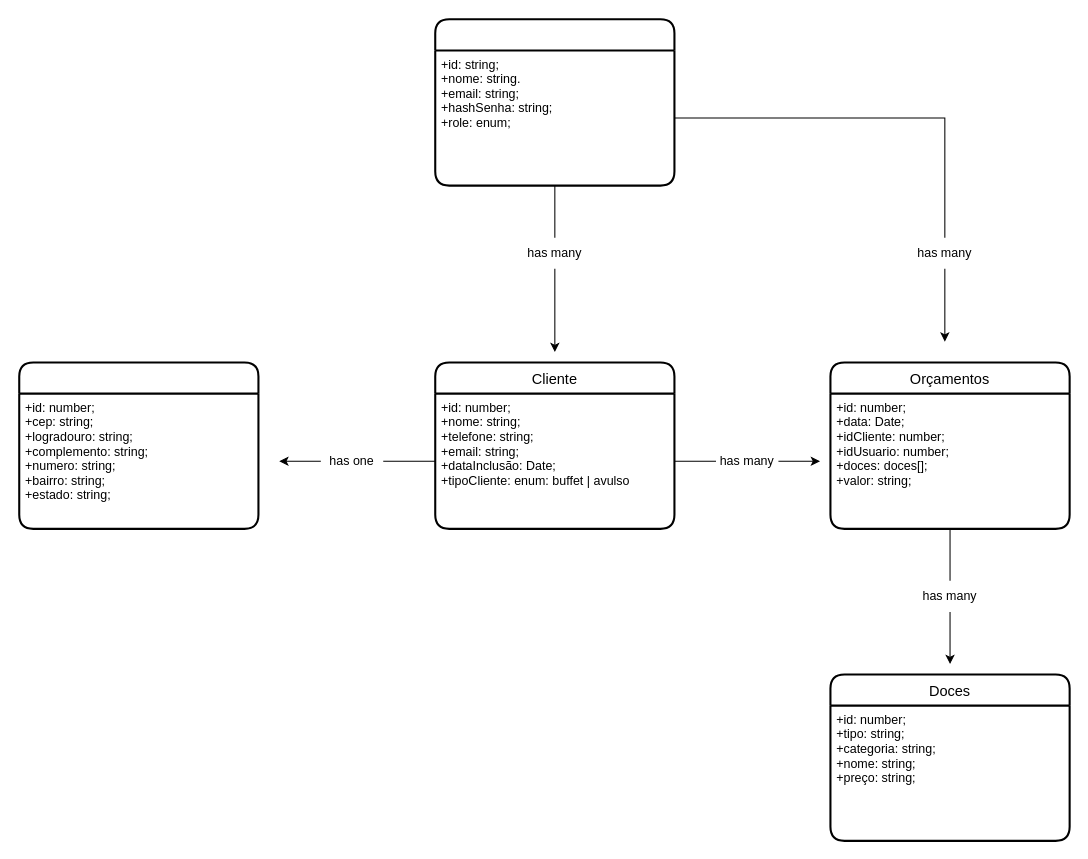
Image size: 1088x859. Some labels were removed from this diagram. Each missing label, with the box of its shape:
Endereço: (18, 361, 259, 529)
Usuário: (434, 18, 675, 186)
